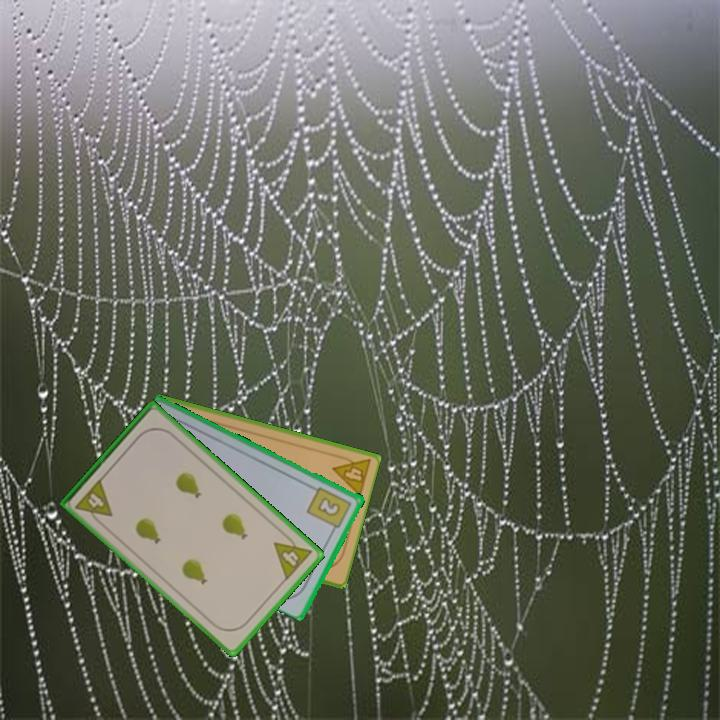2b: (304, 483, 355, 536)
4p: (270, 529, 315, 583), (72, 475, 115, 528), (329, 450, 373, 499)
